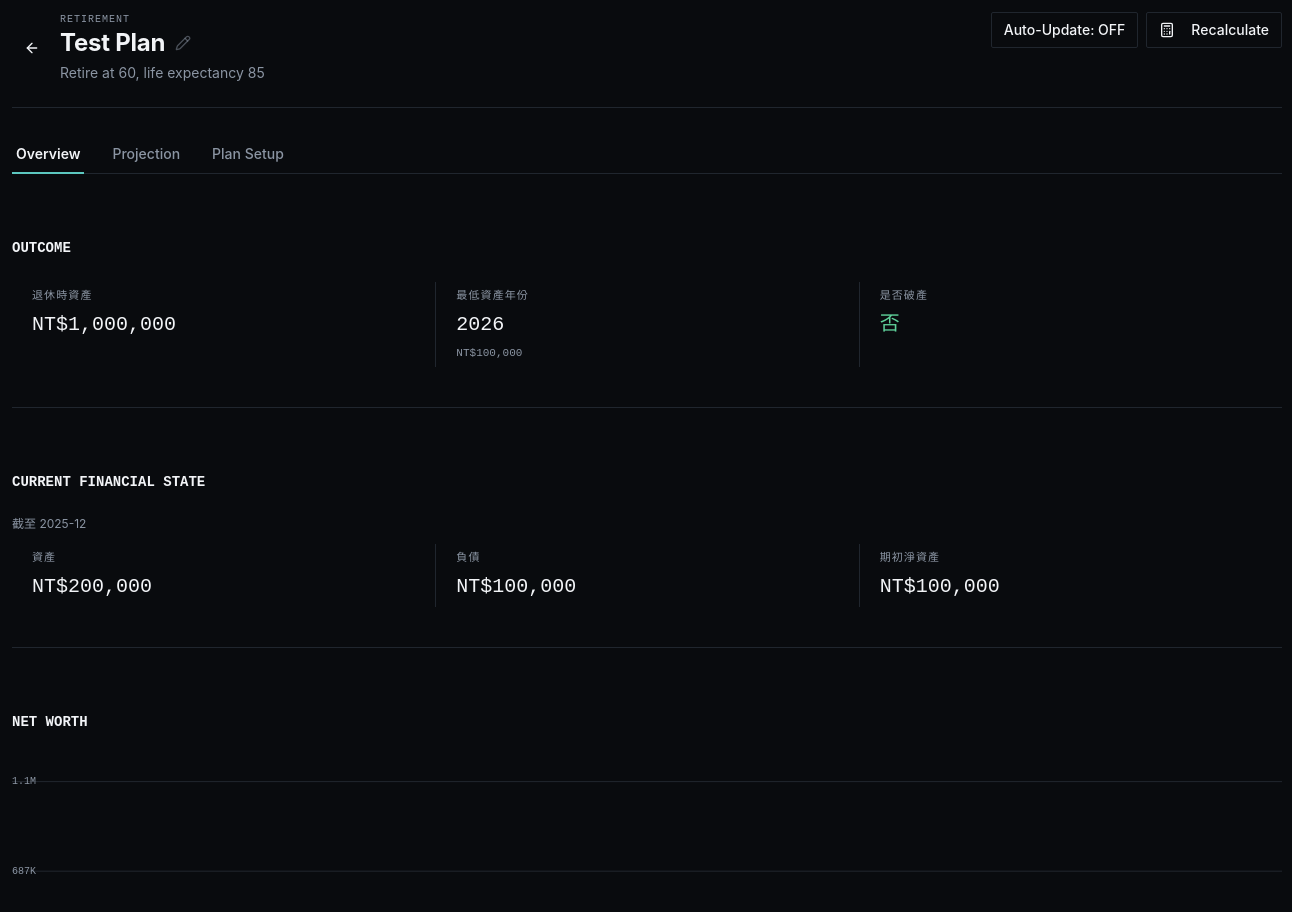
Test: RetirementPlanForm - Scenario Workspace › shows the cash flow projection and yearly details on the Projection tab
Press the mouse on the tab "Projection": {"x": 146, "y": 157} [108,140,184,174]
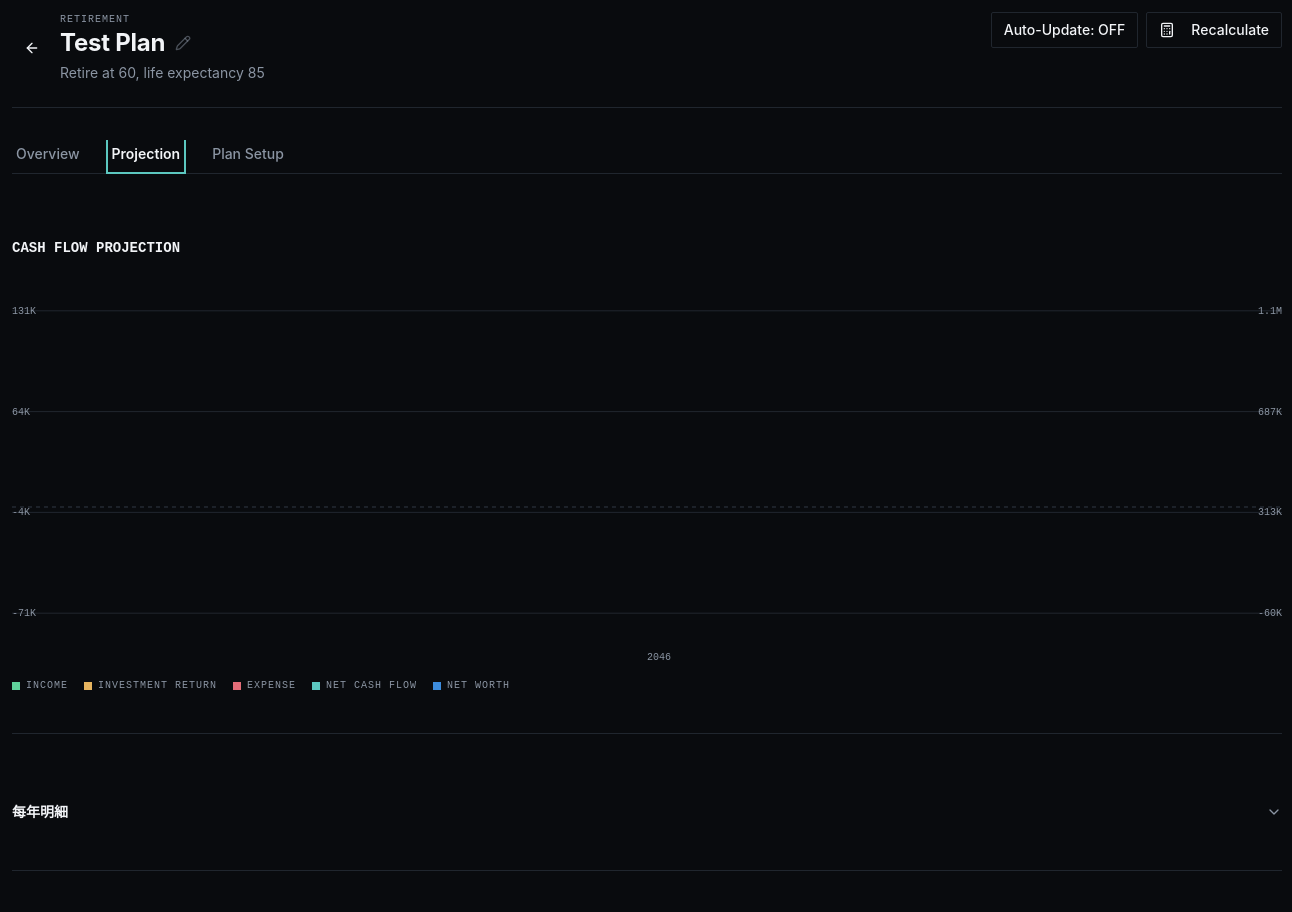
Expected: the text "CASH FLOW PROJECTION" is shown, [12,238,180,258]
Expected: the heading "每年明細" is shown, [12,802,68,822]
